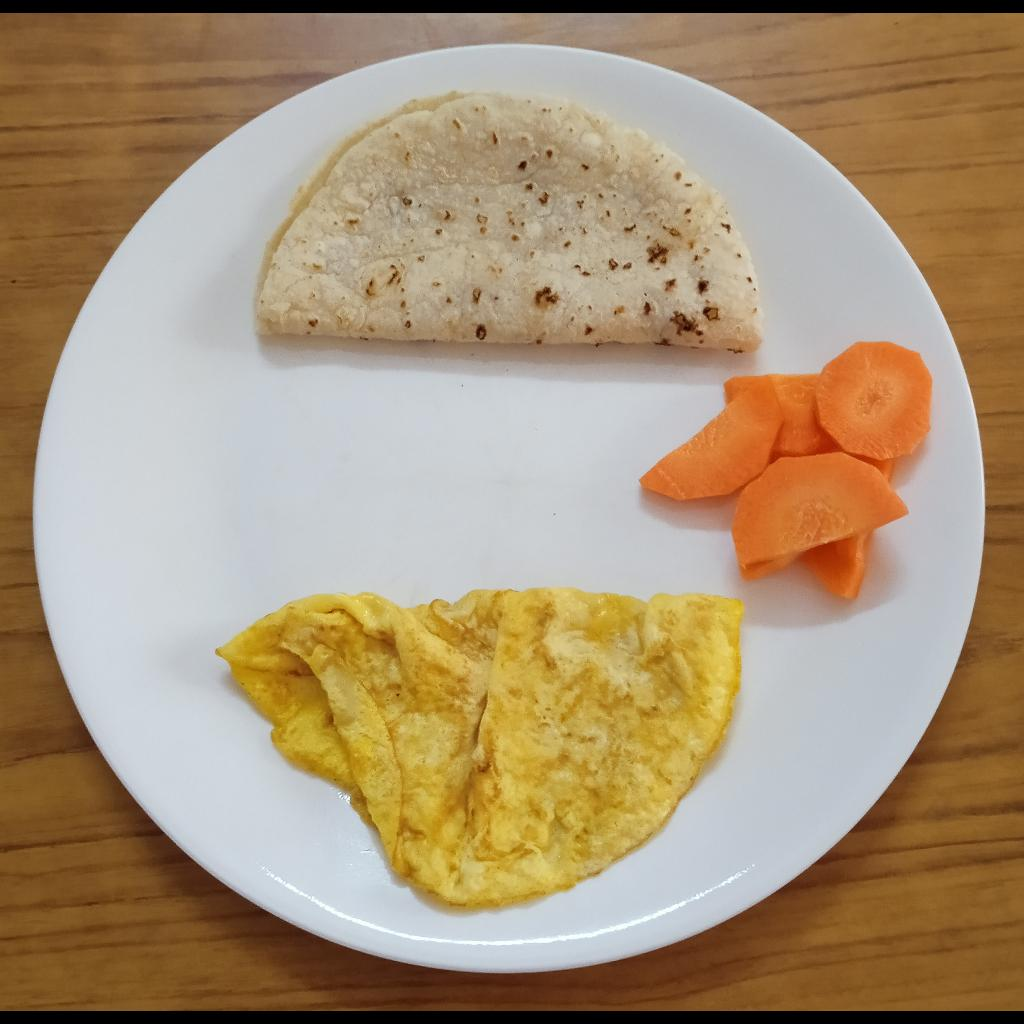carrot: (639, 342, 933, 602)
egg-poached: (214, 587, 743, 911)
ruti: (252, 91, 763, 354)
